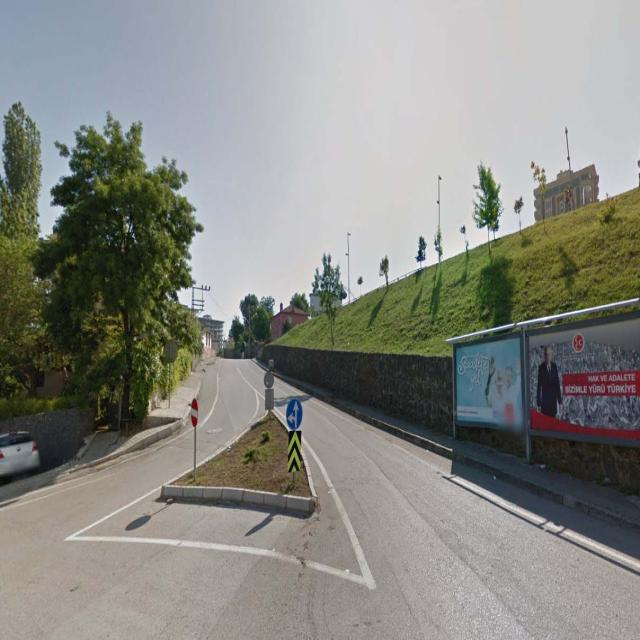girisyok: (190, 398, 198, 426)
ilerisol: (286, 398, 302, 429)
